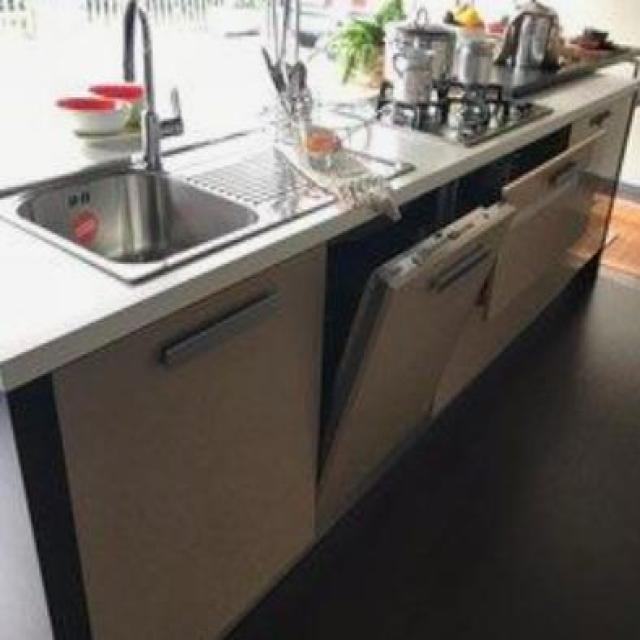dishwasher: (308, 150, 522, 540)
